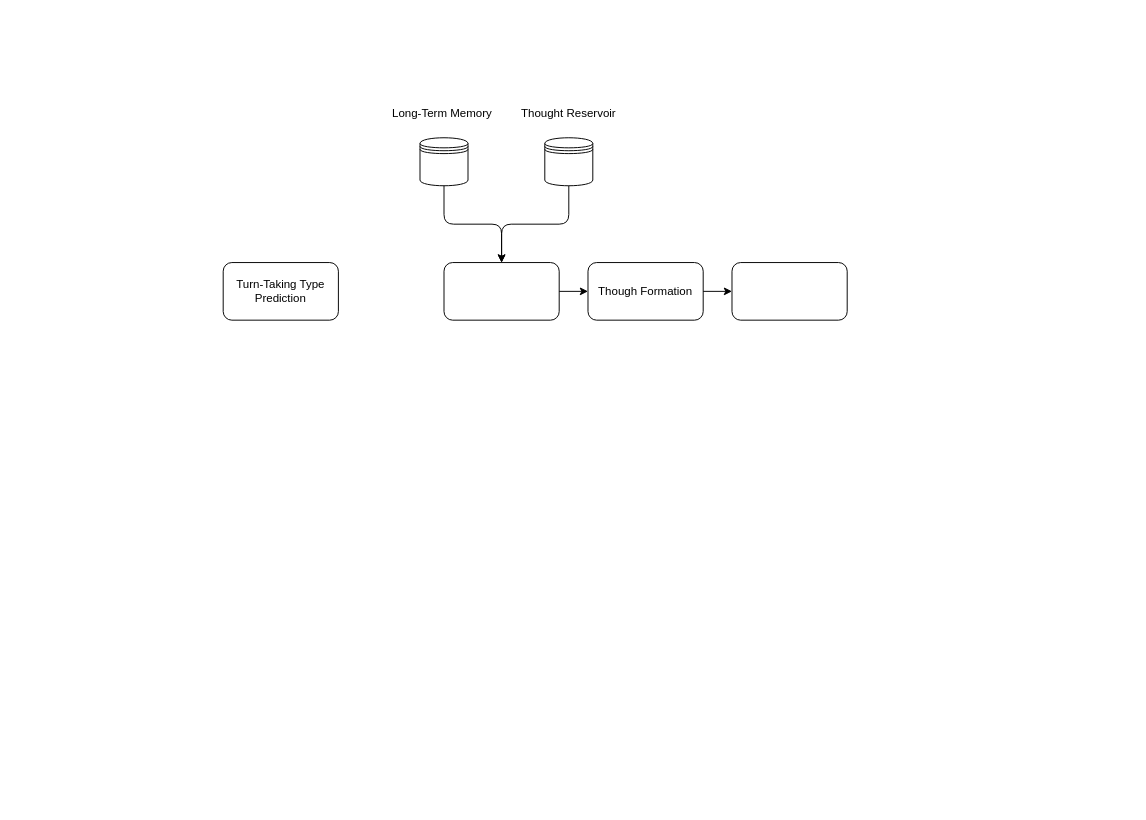
Some shapes in this 1146 by 820 pixel diagram are drawn without their labels. Each missing label, with the box of its shape:
Context Retrieval: (443, 262, 559, 320)
Though Evaluation: (731, 262, 847, 320)
